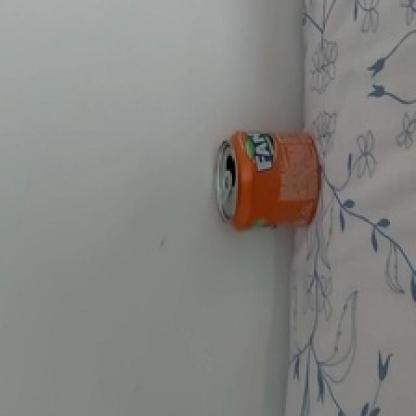Can: (211, 130, 323, 236)
